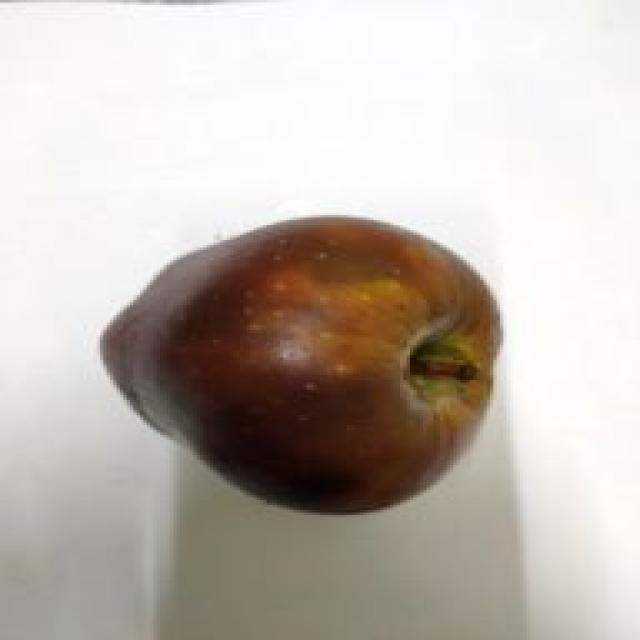Bad_Apple: (102, 216, 502, 513)
